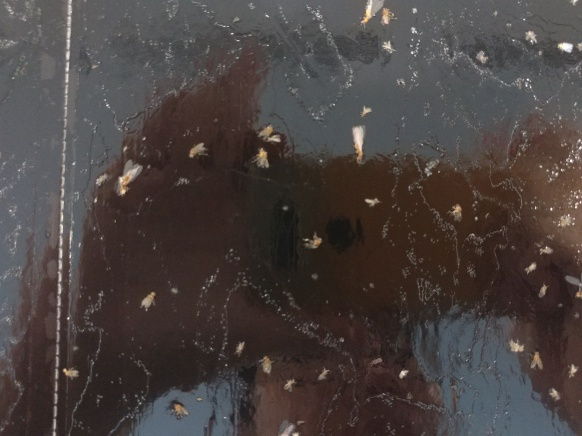flying termite: (112, 158, 148, 197), (348, 121, 369, 169)
